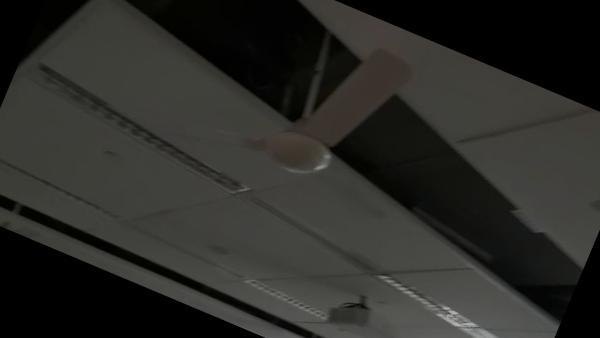light_off: (10, 46, 276, 213), (332, 233, 500, 338), (233, 263, 340, 336)
